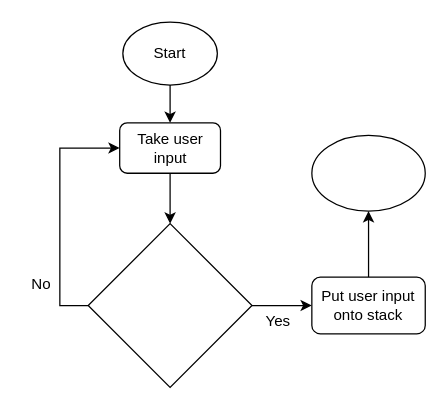
This 447x410 diagram has some shape labels left out. The shapes that lost their labels are listed below. From the top down, each one's centre as x and y in pixels, then its label:
(x=368, y=172): end
(x=169, y=304): is input a # from (0-9) or uppercase letter (A-Z)?
